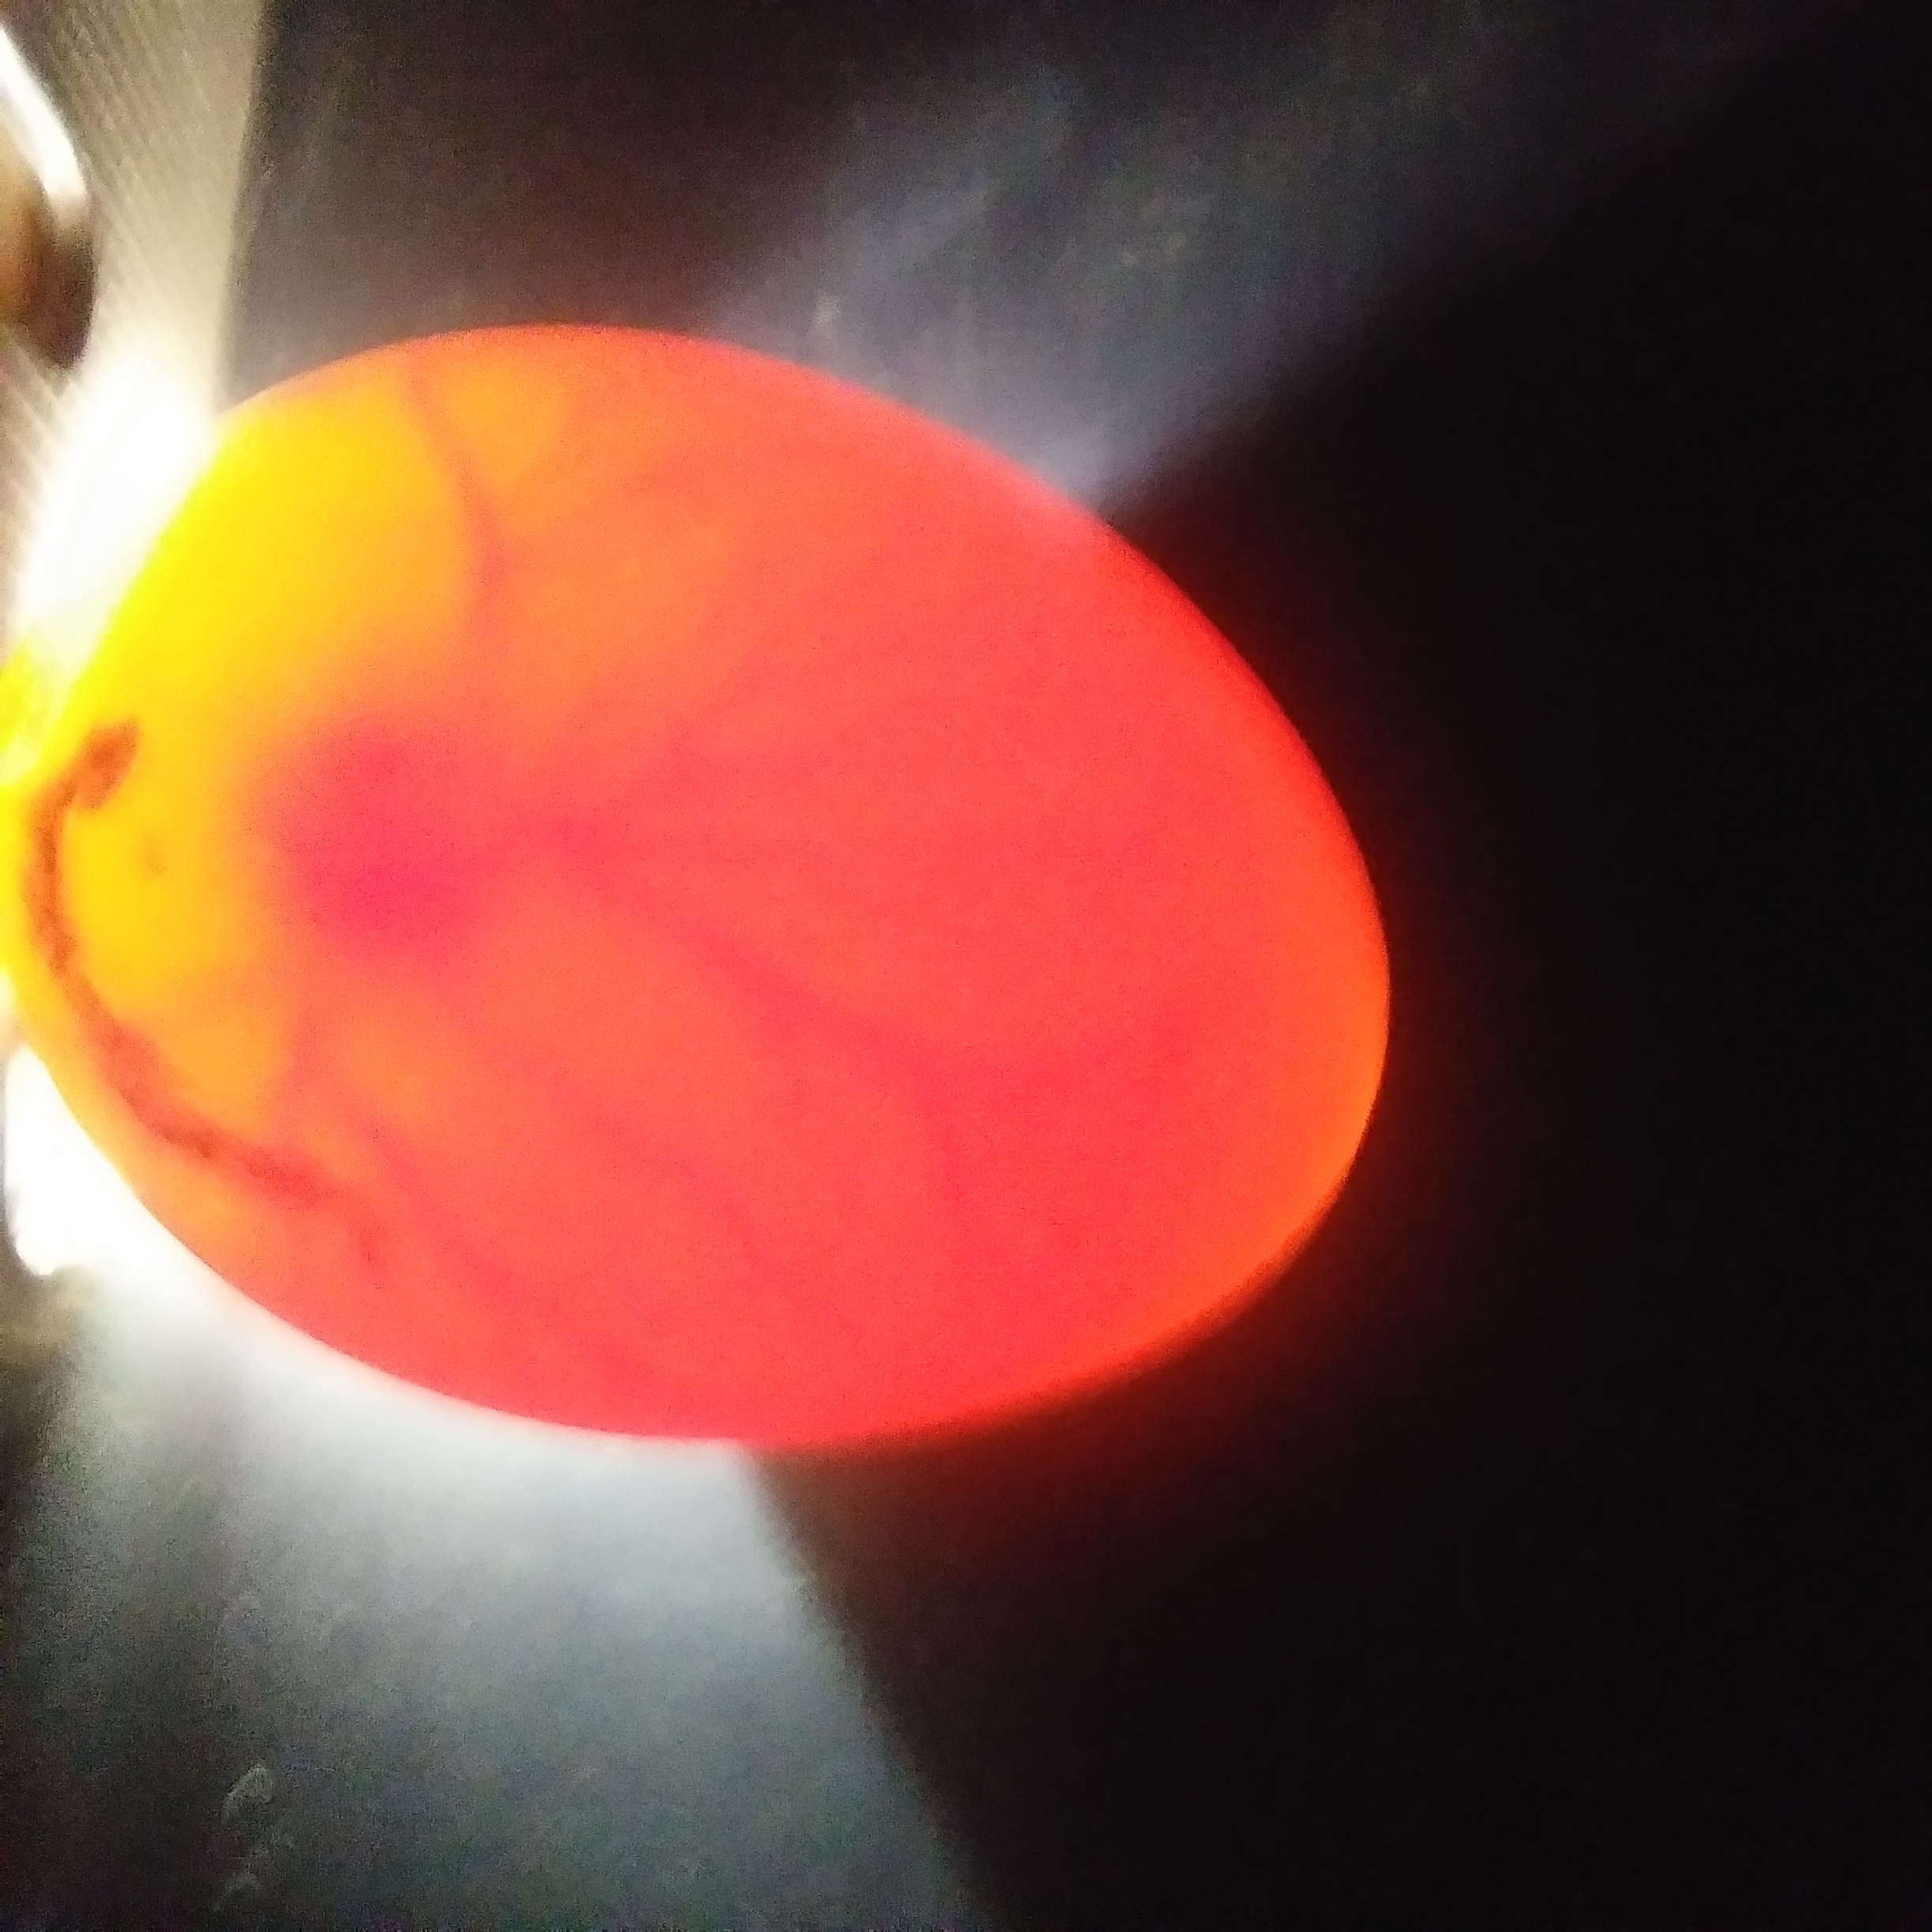bloodcell: (630, 632, 1099, 1318), (357, 403, 614, 600)
embryo: (234, 701, 541, 978)
